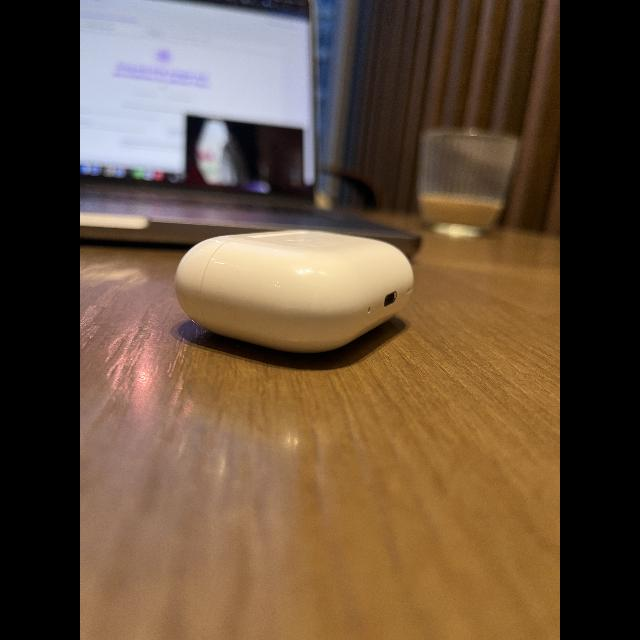AirPods Pro: (170, 220, 420, 378)
